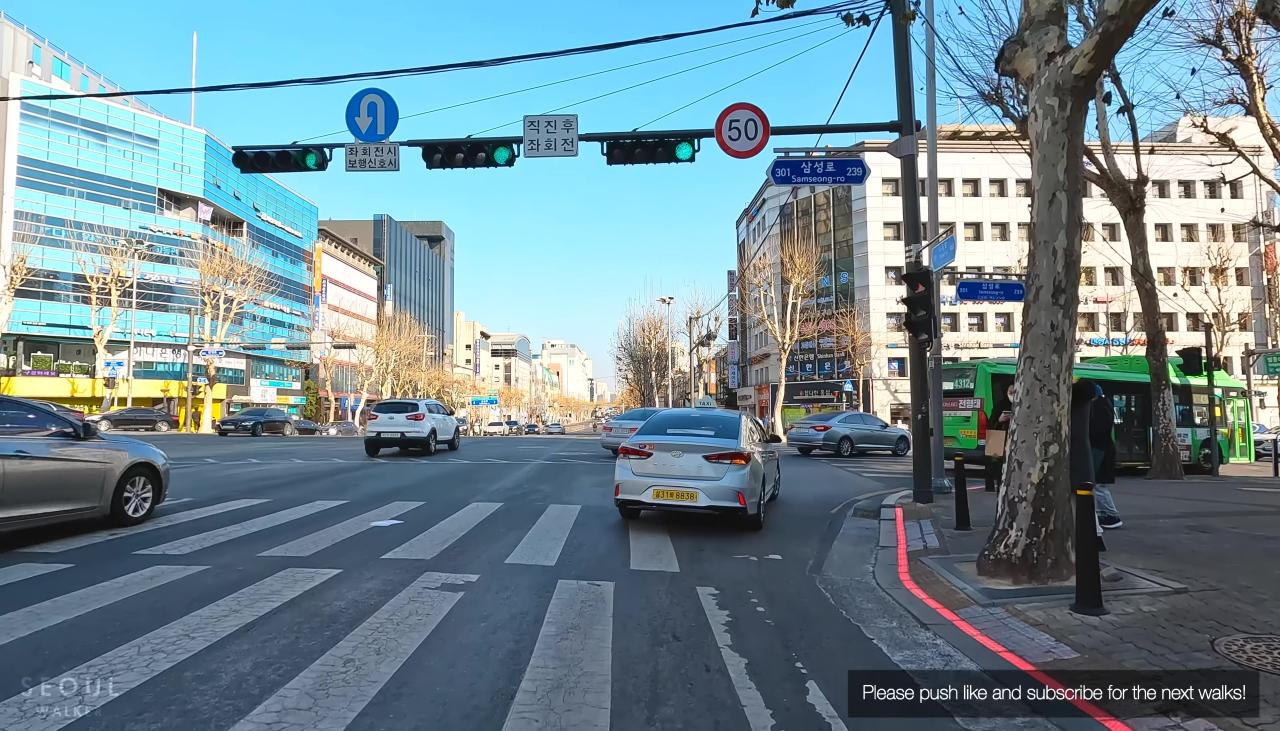Green Light: (486, 139, 514, 166), (298, 148, 323, 171), (674, 140, 695, 162)
